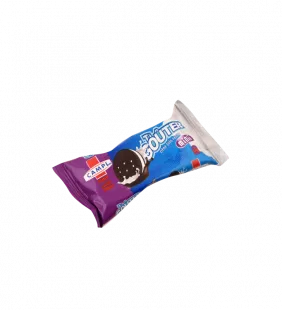CAMPI PLUS: (44, 92, 236, 235)
